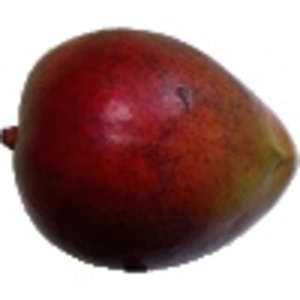manga: (1, 28, 300, 273)
